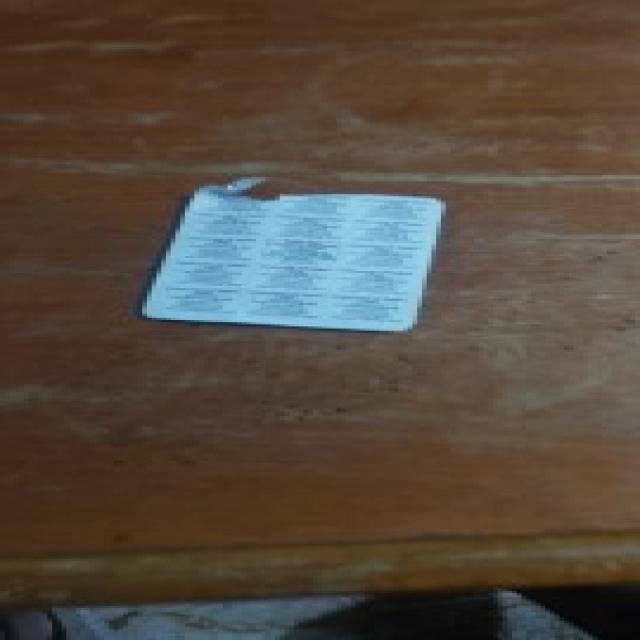Cacat: (136, 168, 450, 335)
Kemasan: (182, 173, 296, 210)
